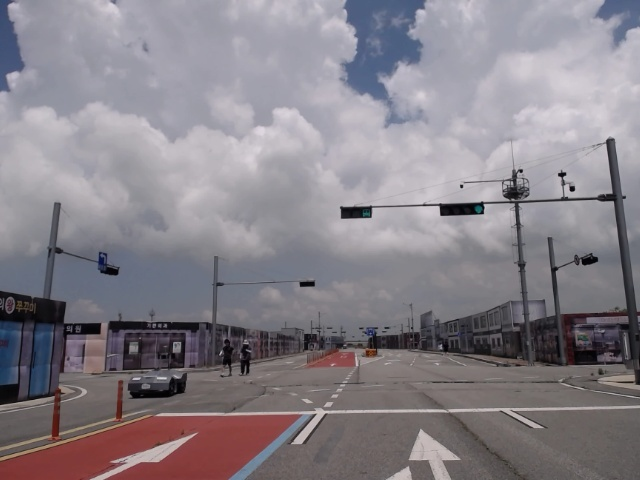straight_green_4: (442, 205, 485, 214)
